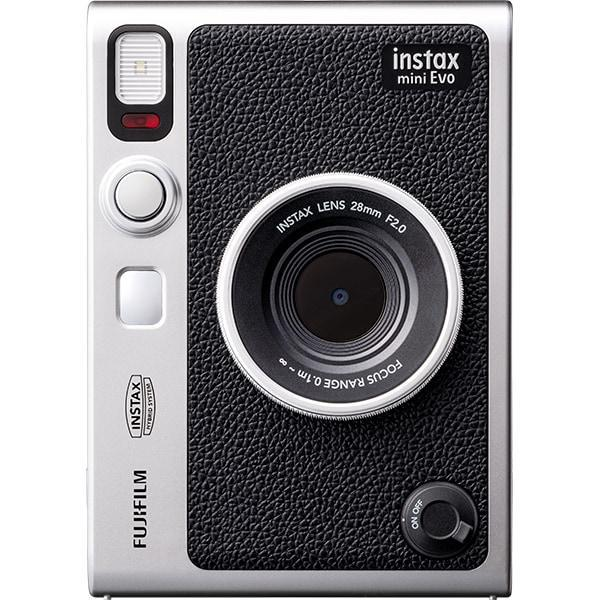degital-camera: (74, 0, 527, 600)
